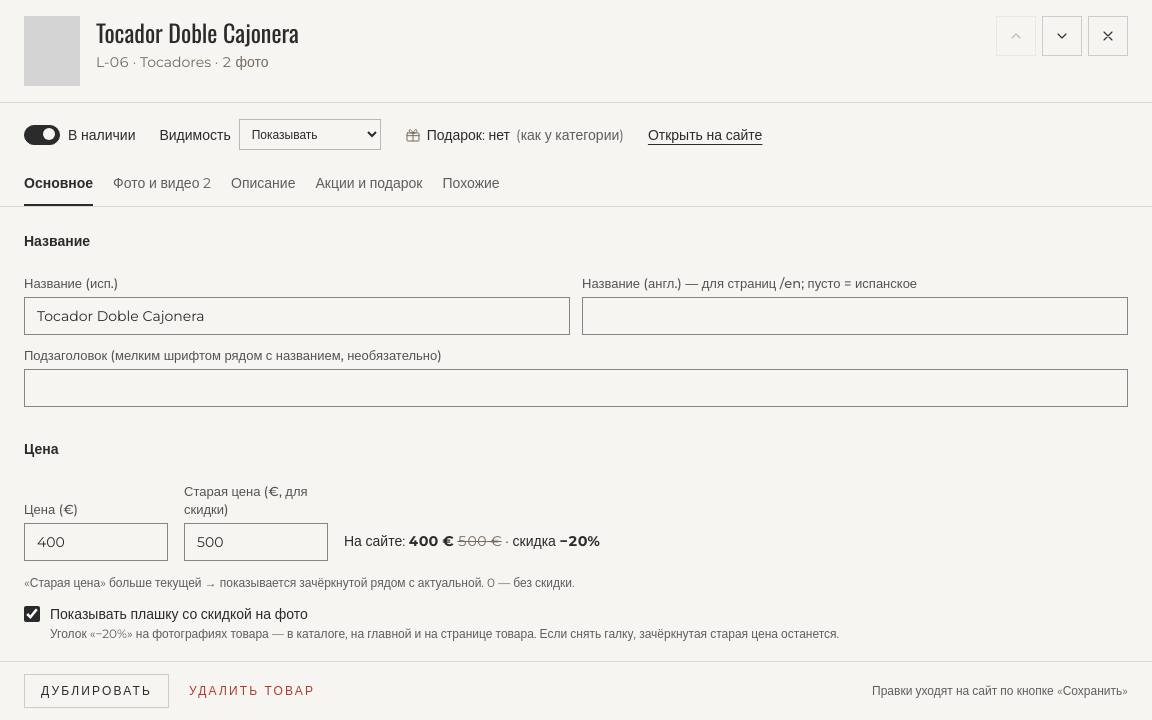
Scenario: CatalogSection — the product panel › steps to the next product in the list
Expected: the dropdown labelled "Категория:" is shown, x1=360 y1=177 x2=680 y2=215
Click the link named "Следующий товар: T-09": (1062, 36) x1=1042 y1=16 x2=1082 y2=56
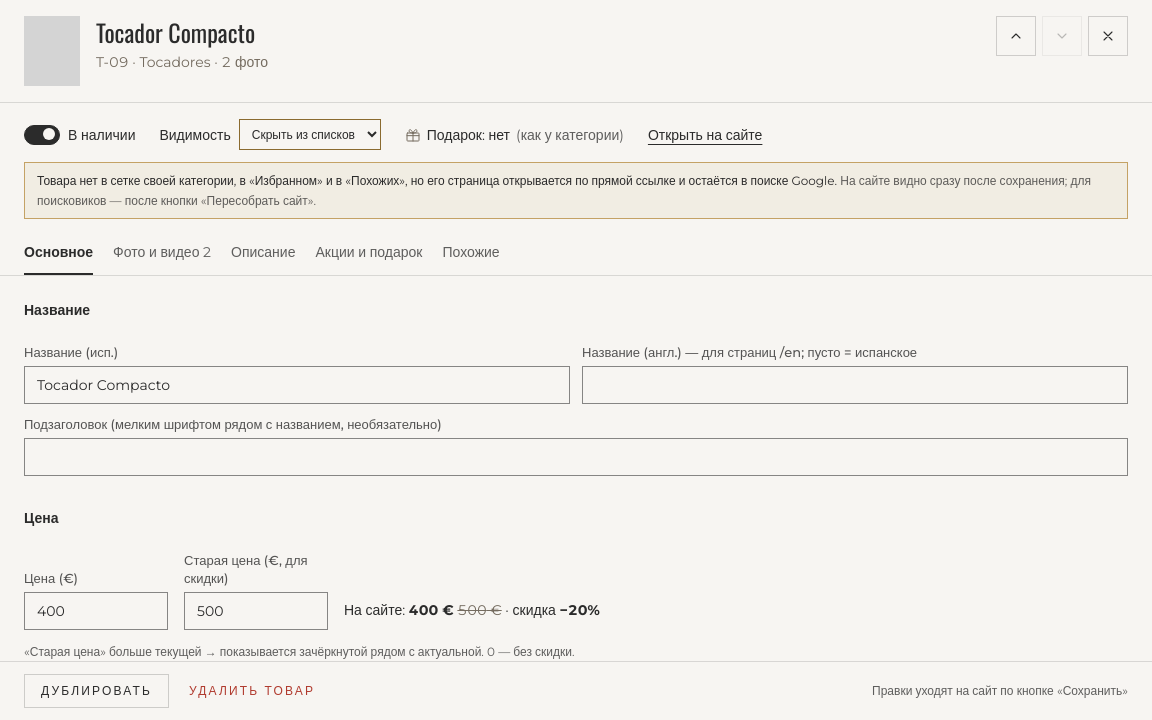
Expected: the dialog "Tocador Compacto" is shown
